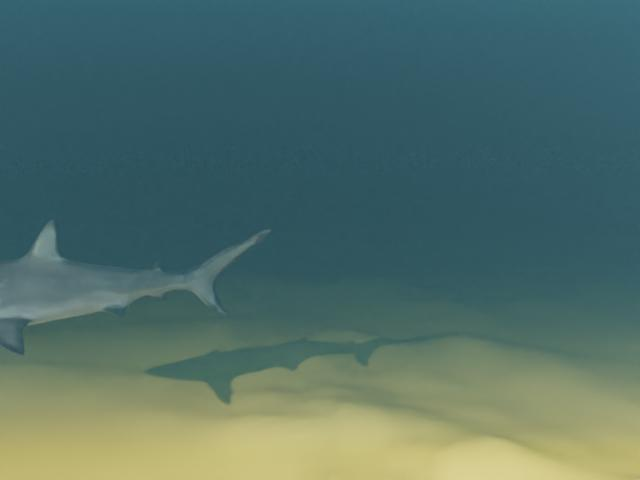Carribean Shark.001: (0, 219, 272, 356)
